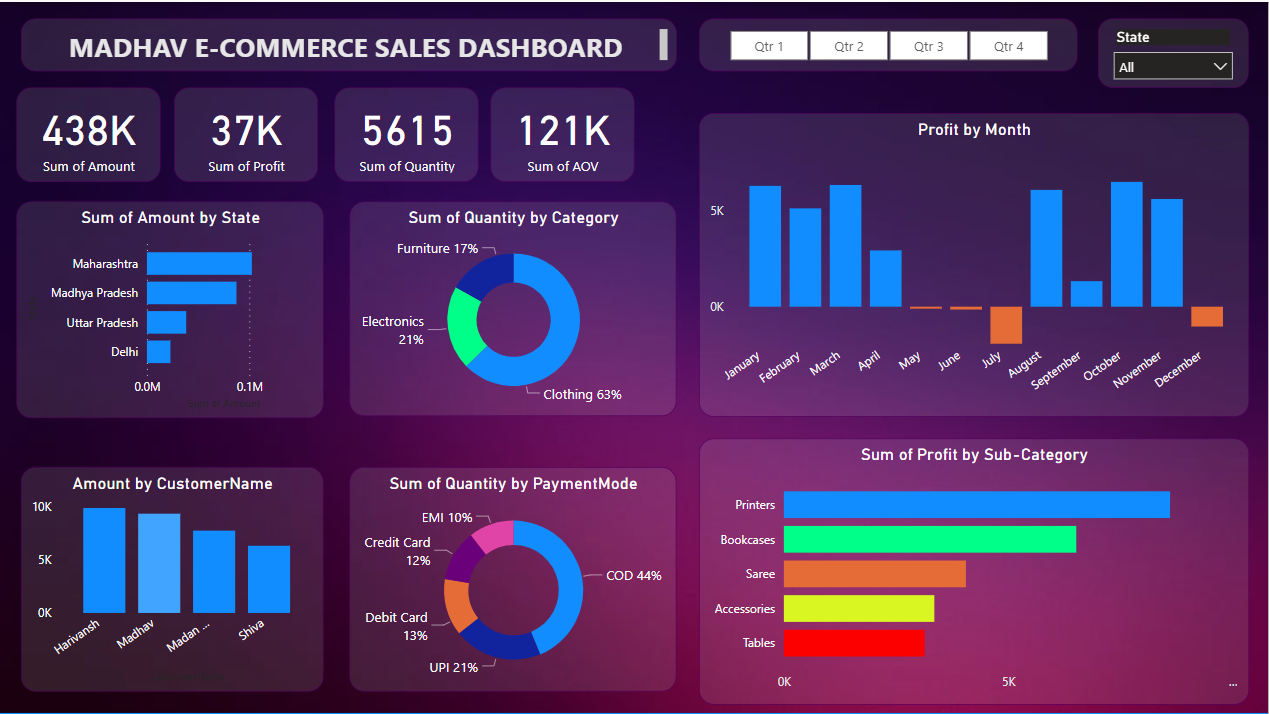

Layout of this report page (visuals, bound fields, positions):
{"tool":"powerbi","page":{"name":"Page 1","canvas":[1280,720],"ordinal":0},"visuals":[{"type":"textbox","box":[21.7,16.7,661.7,53.3],"z":0},{"type":"columnChart","title":"Profit by Month","fields":{"Category":["Orders.Order Date.Variation.Date Hierarchy.Month"],"Y":["Details.Profit"]},"box":[705,111.7,555,306.7],"z":1000},{"type":"barChart","fields":{"Category":["Details.Sub-Category"],"Y":["Details.Profit"]},"box":[705,440,555,268.3],"z":2000},{"type":"donutChart","fields":{"Y":["Details.Quantity"],"Category":["Details.PaymentMode"]},"box":[353.3,470,330,226.7],"z":3000},{"type":"donutChart","fields":{"Category":["Details.Category"],"Y":["Details.Quantity"]},"box":[353.3,201.7,330,216.7],"z":4000},{"type":"card","fields":{"Values":["Details.Amount"]},"box":[16.7,86.7,145,95],"z":5000},{"type":"card","fields":{"Values":["Details.Profit"]},"box":[175,86.7,145,95],"z":6000},{"type":"card","fields":{"Values":["Details.Quantity"]},"box":[338.3,86.7,145,95],"z":7000},{"type":"card","fields":{"Values":["Details.AOV"]},"box":[495,86.7,145,95],"z":8000},{"type":"barChart","fields":{"Category":["Orders.State"],"Y":["Details.Amount"]},"box":[16.7,201.7,310,218.3],"z":9000},{"type":"clusteredColumnChart","title":"Amount by CustomerName","fields":{"Category":["Orders.CustomerName"],"Y":["Details.Amount"]},"box":[21.7,470,305,226.7],"z":10000},{"type":"slicer","fields":{"Values":["Orders.Order Date.Variation.Date Hierarchy.Quarter"]},"box":[705,16.7,381.7,53.3],"z":11000},{"type":"slicer","fields":{"Values":["Orders.State"]},"box":[1108.3,16.7,151.7,70],"z":12000}]}

Visuals, with their boxes in screenshot pixels (x1, y1, x2, y2), scaled from the page's 1280x720 canvas onto the 1269x714 screenshot:
textbox: <box>22,17,678,69</box>
"Profit by Month" columnChart: <box>699,111,1249,415</box>
barChart - Details.Sub-Category x Details.Profit: <box>699,436,1249,702</box>
donutChart - Details.Quantity x Details.PaymentMode: <box>350,466,677,691</box>
donutChart - Details.Category x Details.Quantity: <box>350,200,677,415</box>
card - Details.Amount: <box>17,86,160,180</box>
card - Details.Profit: <box>173,86,317,180</box>
card - Details.Quantity: <box>335,86,479,180</box>
card - Details.AOV: <box>491,86,634,180</box>
barChart - Orders.State x Details.Amount: <box>17,200,324,416</box>
"Amount by CustomerName" clusteredColumnChart: <box>22,466,324,691</box>
slicer - Orders.Order Date.Variation.Date Hierarchy.Quarter: <box>699,17,1077,69</box>
slicer - Orders.State: <box>1099,17,1249,86</box>
